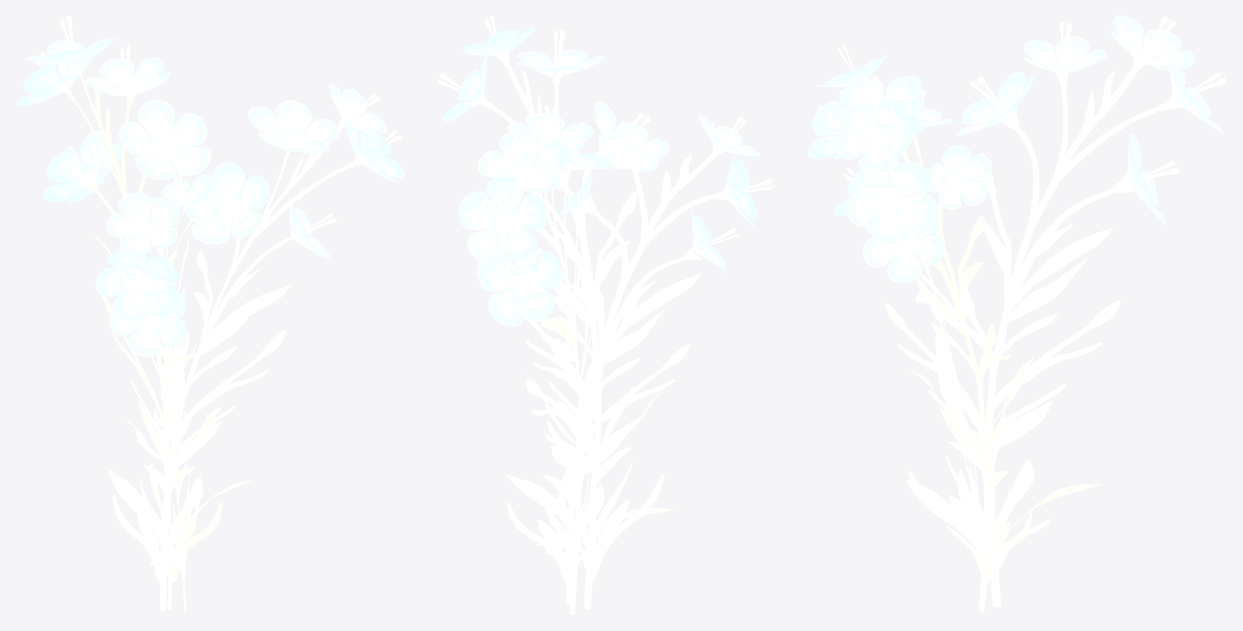
The picture shows the model from 3 angles, left to right: view 1: azimuth 30°, elevation 25°; view 2: azimuth 150°, elevation 25°; view 3: azimuth 270°, elevation 25°; orthographic projection. The views are drawn at different scales.
Parts seen in each view (by area): view 1: SM_Flax_01_LOD0; view 2: SM_Flax_01_LOD0; view 3: SM_Flax_01_LOD0.
Boxes of the visible parts, box(x1,y1,x2,y2) form: SM_Flax_01_LOD0: box(17, 15, 404, 611); SM_Flax_01_LOD0: box(438, 15, 775, 614); SM_Flax_01_LOD0: box(807, 15, 1226, 612).
Size of the model in its own units: 0.5322 by 0.8706 by 0.5754.
1 material, 1 textured.
